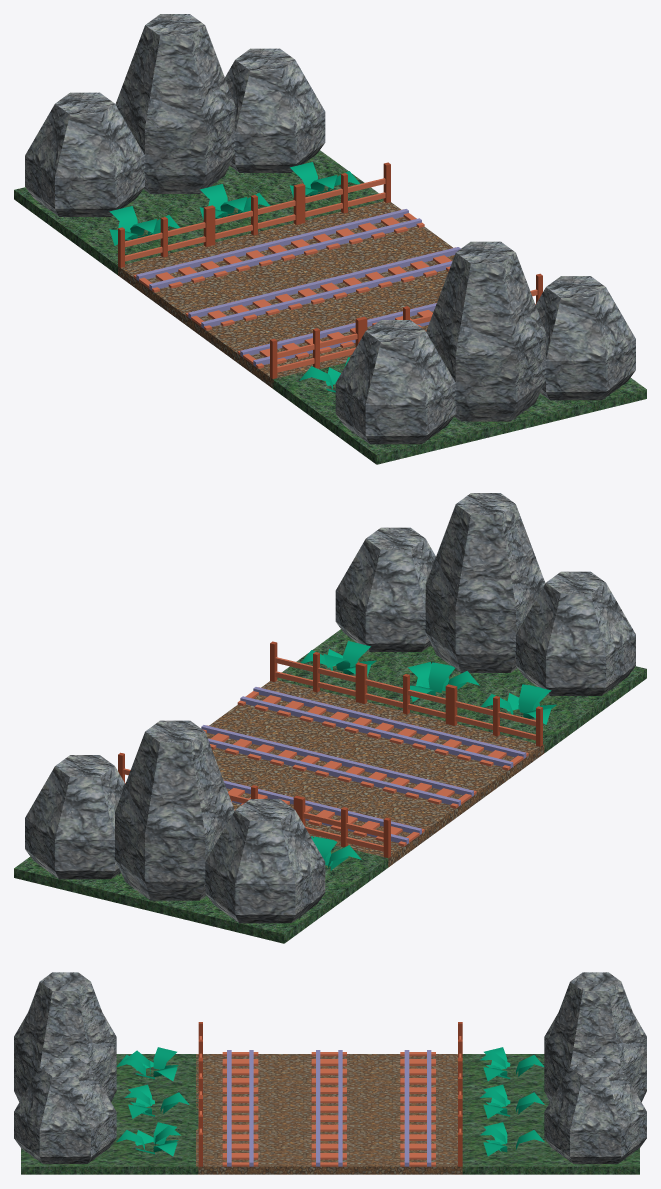
The model's file is mainTile.obj.
The picture shows the model from 3 angles, top to bottom: view 1: azimuth 30°, elevation 25°; view 2: azimuth 150°, elevation 25°; view 3: azimuth 270°, elevation 25°; orthographic projection. The views are drawn at different scales.
Parts seen in each view (by area): view 1: mergedBlocks; view 2: mergedBlocks; view 3: mergedBlocks.
Boxes of the visible parts, left/top/right/bottom form: mergedBlocks: left=14, top=14, right=646, bottom=464; mergedBlocks: left=14, top=493, right=646, bottom=943; mergedBlocks: left=14, top=972, right=646, bottom=1174.
Bounding box in the file's own units: 3 × 1.7 × 7.13.
8 materials, 3 textured.
